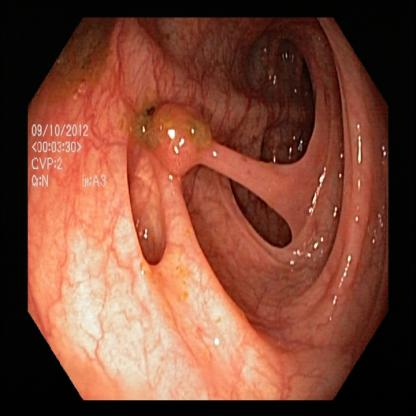Labels: (26, 120, 109, 192)
Polyps: (110, 21, 168, 110)
